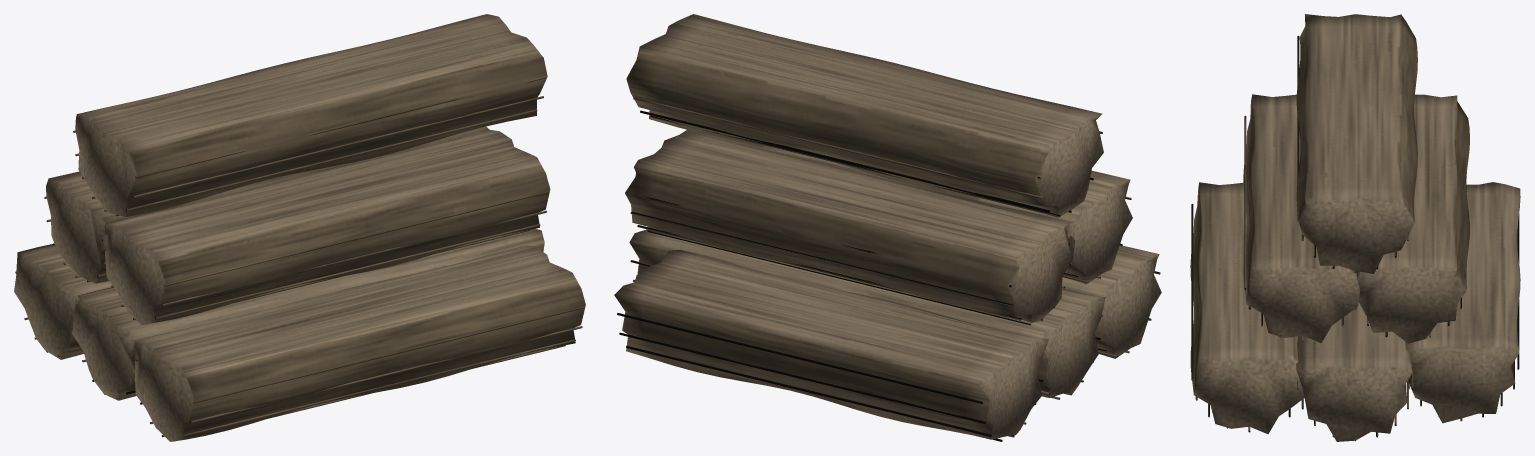
The model's file is 19_Firewood_Stack.glb.
3 renders of one model, left to right at view 1: azimuth 30°, elevation 25°; view 2: azimuth 150°, elevation 25°; view 3: azimuth 270°, elevation 25°, orthographic. The views are drawn at different scales.
Visible parts, largest first — view 1: 19_Firewood_Stack_Body; view 2: 19_Firewood_Stack_Body; view 3: 19_Firewood_Stack_Body.
Boxes of the visible parts, x1,y1,x2,y2 form: 19_Firewood_Stack_Body: [14, 14, 585, 441]; 19_Firewood_Stack_Body: [614, 14, 1161, 441]; 19_Firewood_Stack_Body: [1190, 14, 1520, 441].
Bounding box in the file's own units: 1 × 0.6074 × 0.7477.
Materials: 3 (3 with a texture image).
